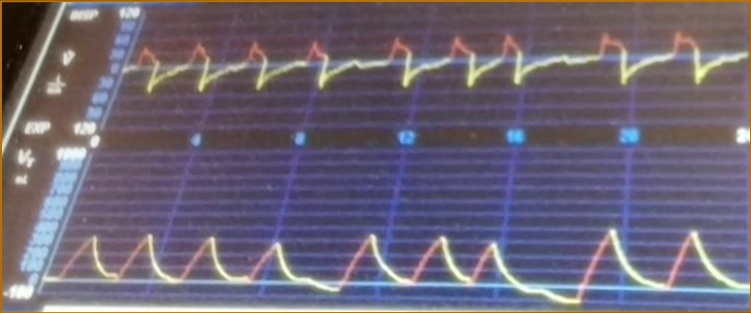Ineffective_effort Flow: (132, 20, 747, 113)
Ineffective_effort Volume: (57, 220, 751, 306)
